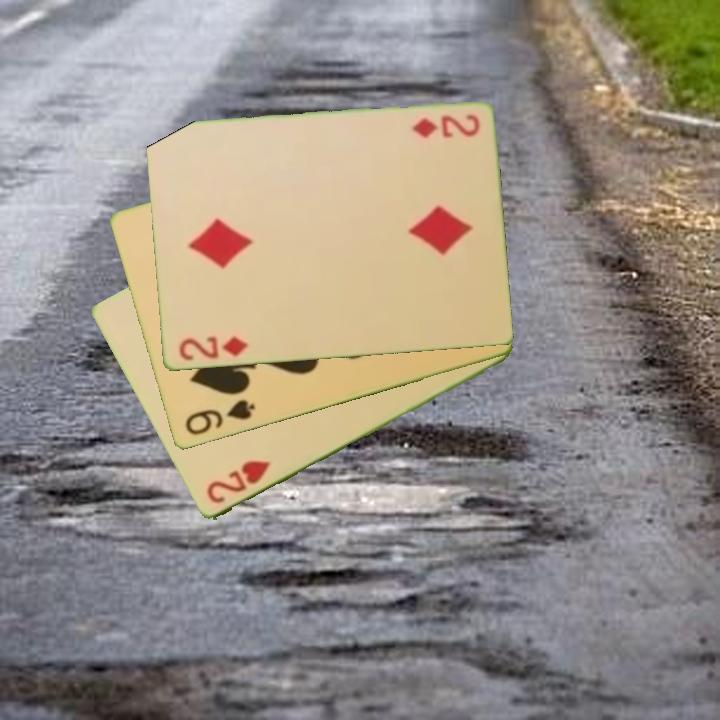2d: (175, 333, 250, 364), (408, 111, 482, 141)
2h: (202, 457, 274, 507)
9s: (181, 396, 258, 439)
